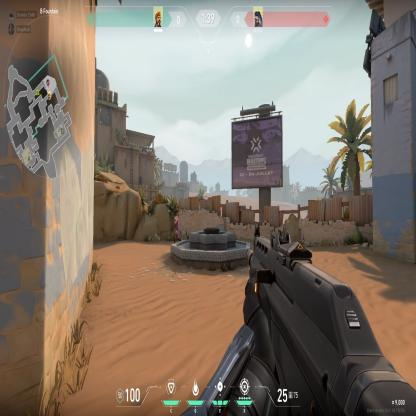enemy: (173, 212, 182, 243)
